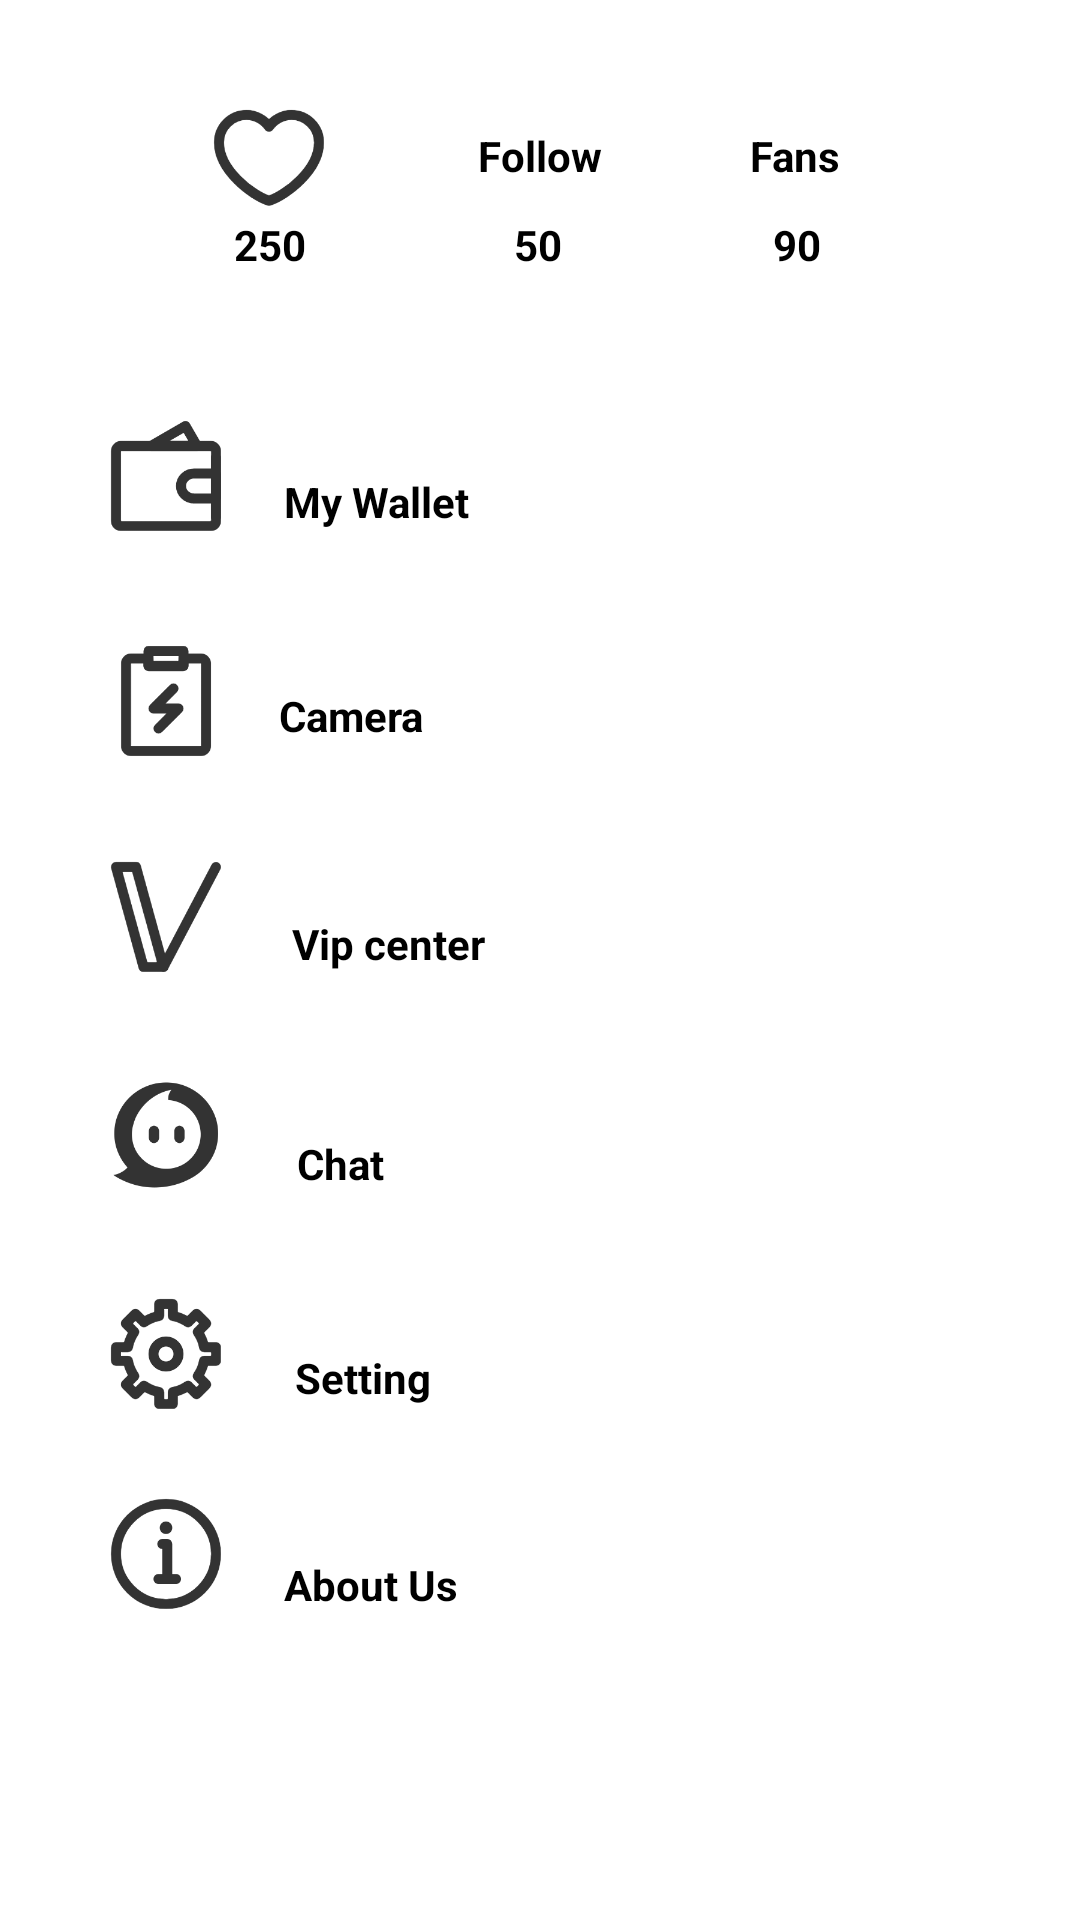

Icons on this 1080×1920 Android screen, each with the point to tap as point (x, y):
info: point (166, 1554)
like: point (269, 158)
order: point (166, 701)
